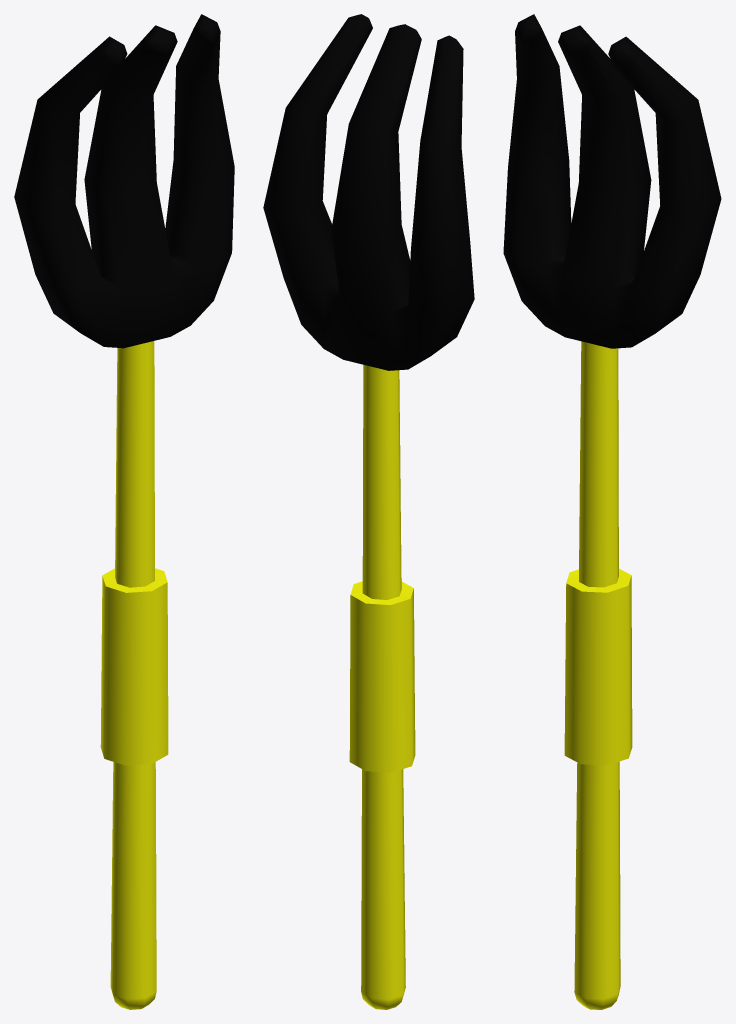
Rendered from Fork.fbx.
The picture shows the model from 3 angles, left to right: view 1: azimuth 30°, elevation 25°; view 2: azimuth 150°, elevation 25°; view 3: azimuth 330°, elevation 25°; orthographic projection. The views are drawn at different scales.
Parts seen in each view (by area): view 1: Fork; view 2: Fork; view 3: Fork.
Boxes of the visible parts, x1,y1,x2,y2 form: Fork: [14, 14, 234, 1009]; Fork: [263, 14, 474, 1009]; Fork: [503, 14, 721, 1009].
Bounding box in the file's own units: 25.33 × 124 × 13.61.
